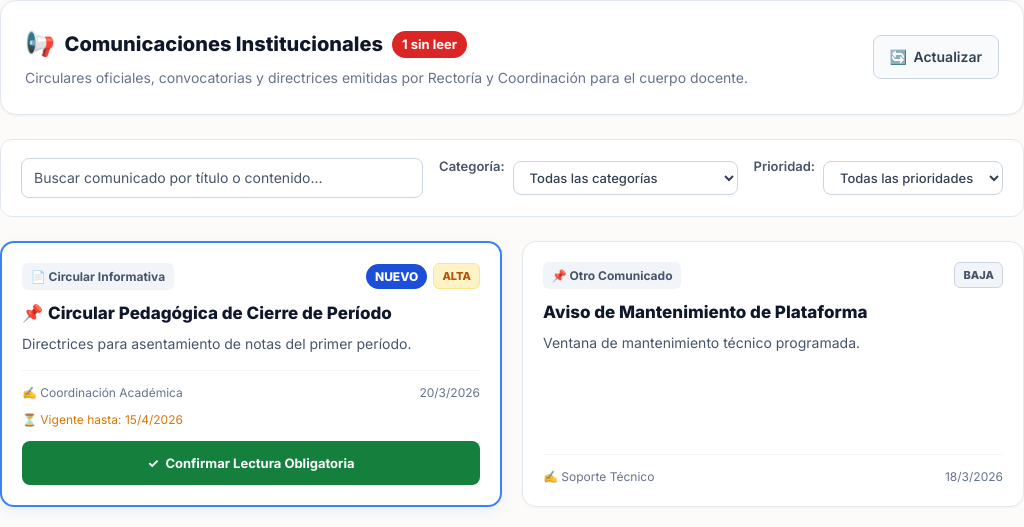
Teacher Communications View (Phase B2) › renders empty state when search finds no matches
The image size is (1024, 527).
Expected: the heading "Circular Pedagógica de Cierre de Período" is shown, [48,303,392,323]
Note: Filter by query that doesn't match
Type "InexistenteXYZ123" into the field with placeholder "Buscar comunicado por título o contenido...". click: (222, 178)
box: [21,158,423,198]
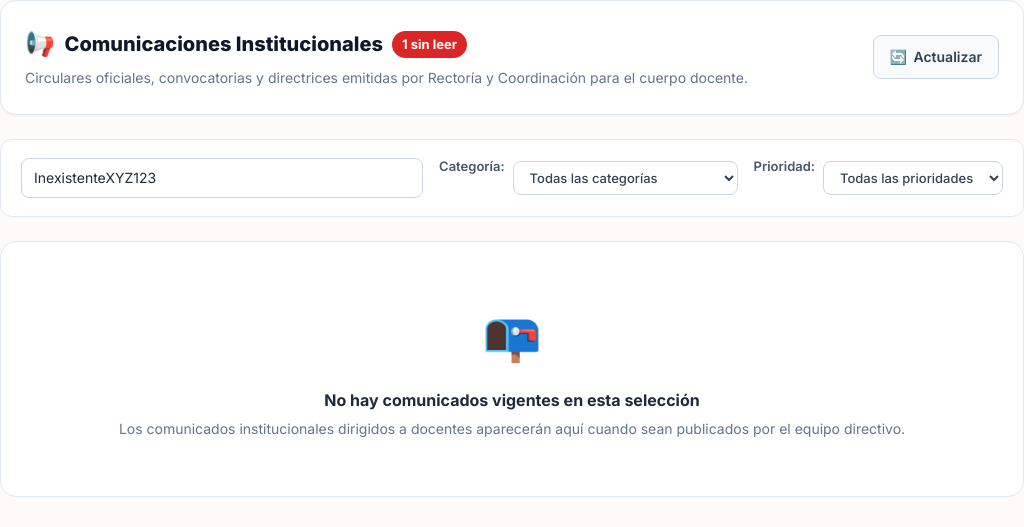
Result: the heading "No hay comunicados vigentes en esta selección" is shown at [324,390,700,410]
